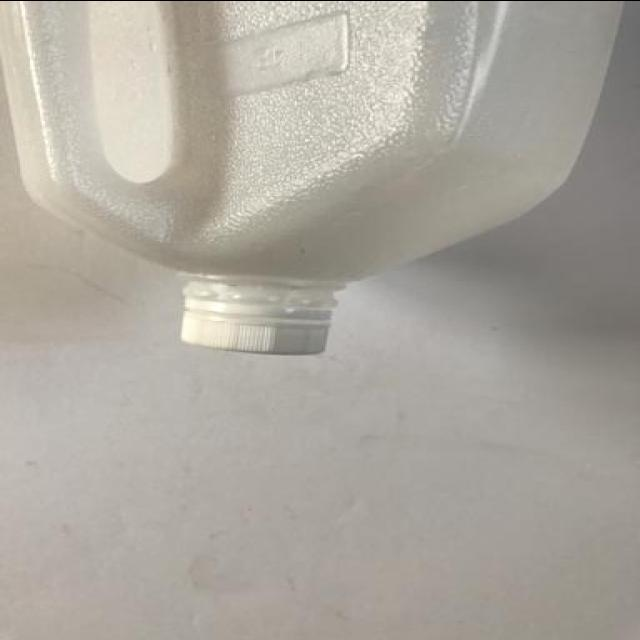HDPEM: (1, 2, 640, 354)
